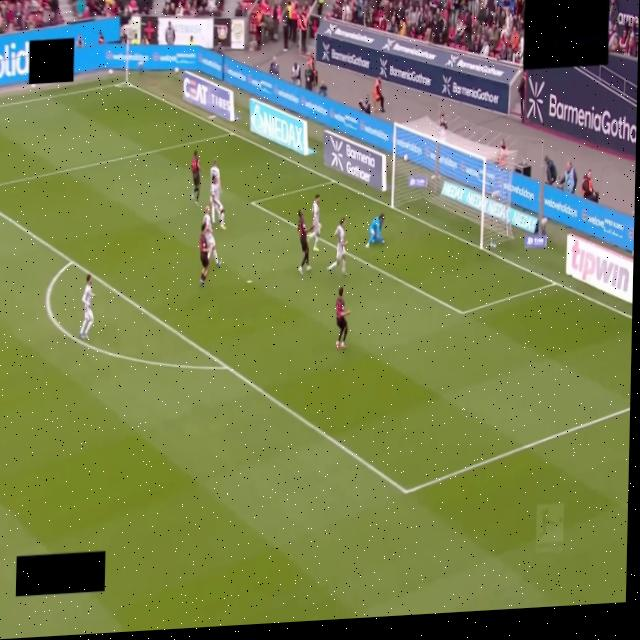player: (328, 218, 346, 275), (297, 210, 312, 275), (79, 274, 94, 339), (336, 287, 350, 348), (211, 175, 225, 229), (366, 213, 385, 248), (191, 151, 202, 205), (311, 195, 321, 252), (200, 224, 209, 286), (207, 226, 220, 266), (210, 159, 222, 200), (203, 205, 212, 229)
